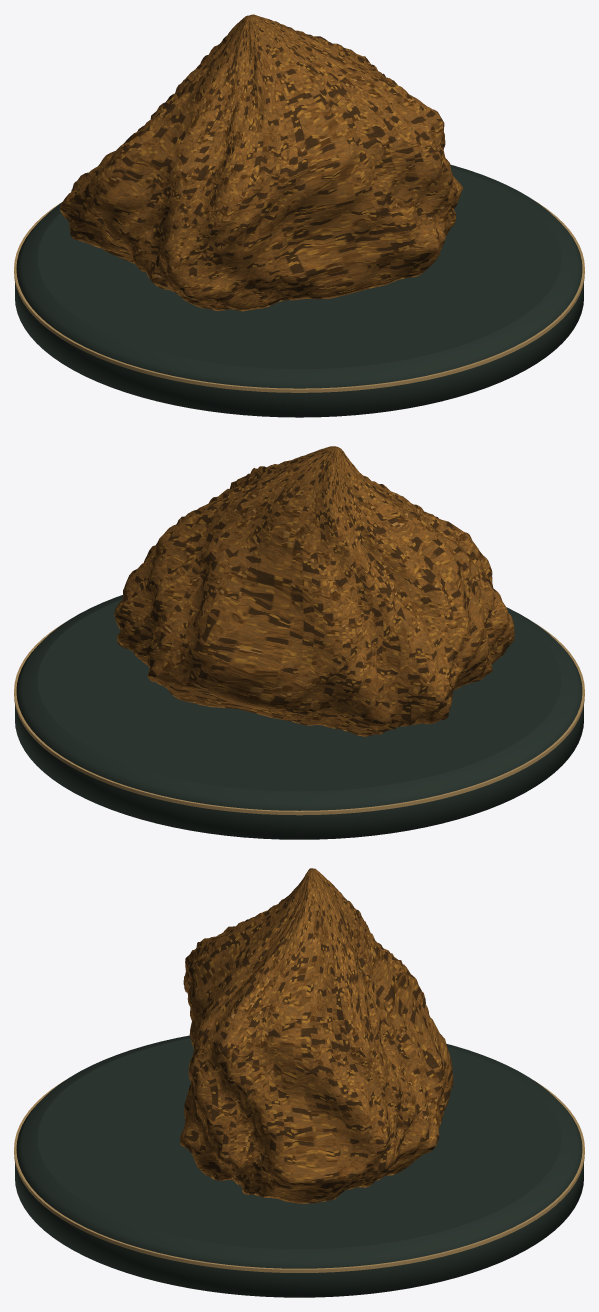
File: lingstone-concept-10-v191-50571fc8853d.glb
The picture shows the model from 3 angles, top to bottom: view 1: azimuth 30°, elevation 25°; view 2: azimuth 150°, elevation 25°; view 3: azimuth 270°, elevation 25°; orthographic projection.
Parts seen in each view (by area): view 1: XY-CONCEPT-010 concept stone, Centered beveled display plinth, Champagne gold edge; view 2: XY-CONCEPT-010 concept stone, Centered beveled display plinth, Champagne gold edge; view 3: Centered beveled display plinth, XY-CONCEPT-010 concept stone, Champagne gold edge.
Boxes of the visible parts, box(x1,y1,x2,y2) form: XY-CONCEPT-010 concept stone: box(60, 14, 463, 311); Centered beveled display plinth: box(15, 164, 583, 417); Champagne gold edge: box(14, 200, 584, 392); XY-CONCEPT-010 concept stone: box(114, 446, 514, 736); Centered beveled display plinth: box(15, 595, 583, 839); Champagne gold edge: box(14, 623, 584, 815); Centered beveled display plinth: box(15, 1035, 583, 1297); XY-CONCEPT-010 concept stone: box(180, 868, 453, 1203); Champagne gold edge: box(14, 1080, 584, 1272).
Size of the model in its own units: 2.34 by 1.32 by 2.34.
Materials: 3 (1 with a texture image).
